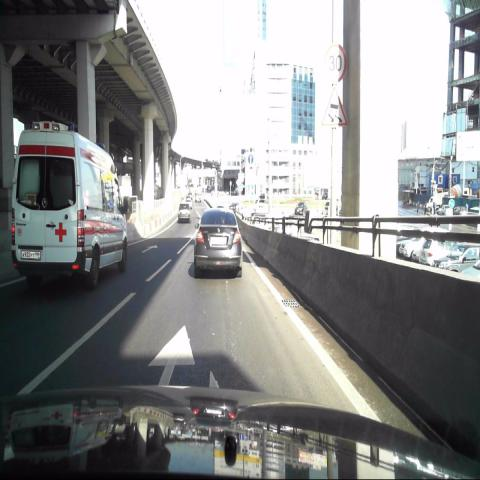1_15: (322, 86, 348, 126)
